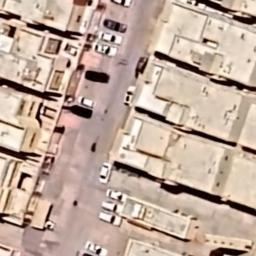SUV: (97, 210, 124, 228), (100, 199, 127, 215)
sedan: (102, 17, 130, 34), (92, 40, 118, 58), (83, 68, 112, 84), (84, 238, 109, 256), (97, 30, 125, 46), (104, 186, 130, 202), (97, 161, 113, 185), (77, 94, 98, 109)
unknown: (68, 102, 94, 120)
